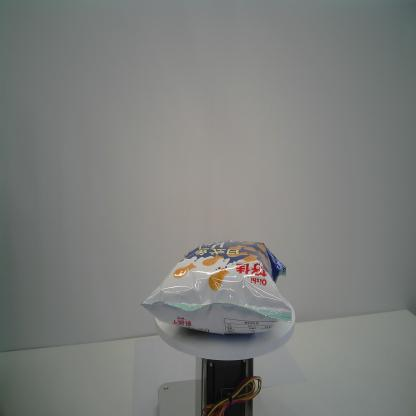Puffed Food: (140, 238, 292, 336)
